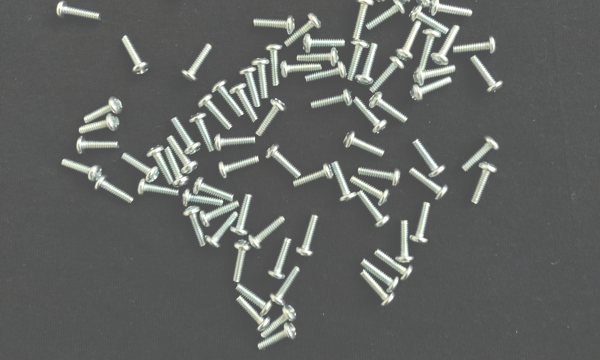shortscrew: (461, 136, 499, 173), (412, 139, 447, 179), (360, 270, 396, 308), (369, 55, 405, 93), (470, 55, 505, 94), (361, 260, 400, 294), (284, 13, 323, 47), (409, 168, 449, 201), (198, 93, 233, 130), (354, 96, 388, 134), (248, 216, 287, 249), (375, 249, 414, 282), (167, 135, 198, 176), (266, 143, 301, 179), (205, 212, 239, 249), (236, 283, 273, 317), (237, 296, 271, 333), (121, 153, 160, 185), (182, 43, 213, 83), (350, 176, 390, 207), (471, 161, 499, 205), (431, 26, 461, 67), (357, 191, 390, 228), (212, 80, 245, 117), (255, 98, 287, 136), (95, 174, 135, 204), (370, 93, 408, 124), (342, 131, 384, 159), (270, 267, 299, 307), (260, 306, 297, 337), (122, 33, 149, 75), (83, 96, 123, 124), (230, 82, 258, 122), (266, 238, 292, 281), (410, 77, 453, 103), (146, 144, 173, 185), (172, 117, 201, 155), (200, 200, 240, 227), (354, 43, 379, 86), (165, 148, 191, 189), (258, 324, 297, 351), (61, 158, 103, 183), (418, 28, 443, 70), (397, 21, 423, 61), (453, 36, 498, 59), (296, 215, 320, 258), (293, 163, 334, 188), (332, 161, 357, 202), (183, 206, 207, 248), (55, 1, 100, 23), (310, 89, 355, 111), (305, 61, 348, 84), (230, 194, 253, 236), (193, 177, 235, 200), (137, 178, 180, 200), (410, 202, 432, 245), (413, 64, 456, 86), (239, 66, 261, 108), (190, 113, 213, 153), (358, 166, 401, 187), (218, 156, 259, 178), (347, 40, 369, 81), (352, 0, 375, 39), (79, 113, 119, 135), (232, 240, 252, 283), (395, 221, 415, 264), (296, 48, 339, 68), (302, 34, 346, 53), (76, 135, 119, 154), (214, 134, 257, 153), (429, 0, 474, 18), (182, 187, 224, 206), (254, 15, 296, 34), (280, 61, 323, 79), (252, 58, 270, 99), (268, 43, 283, 86), (415, 0, 454, 10), (394, 0, 427, 8), (371, 0, 410, 2)
